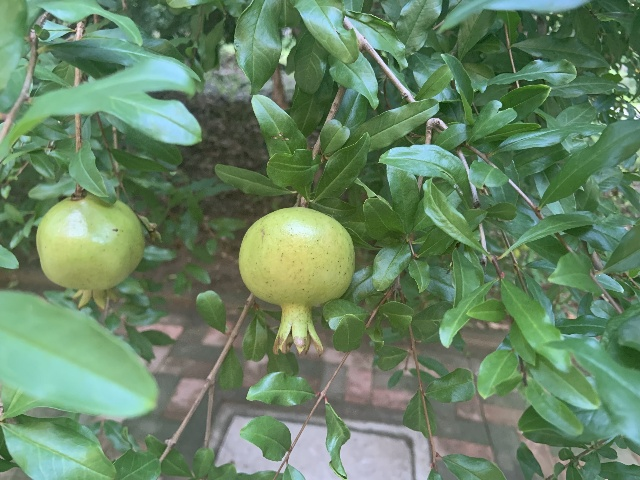mid-growth: (237, 206, 355, 356), (35, 193, 145, 312)
